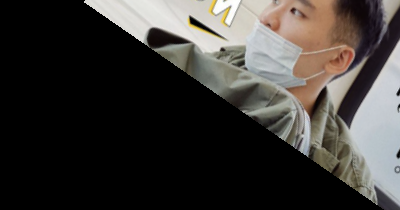mask_weared_incorrect: (238, 1, 395, 95)
